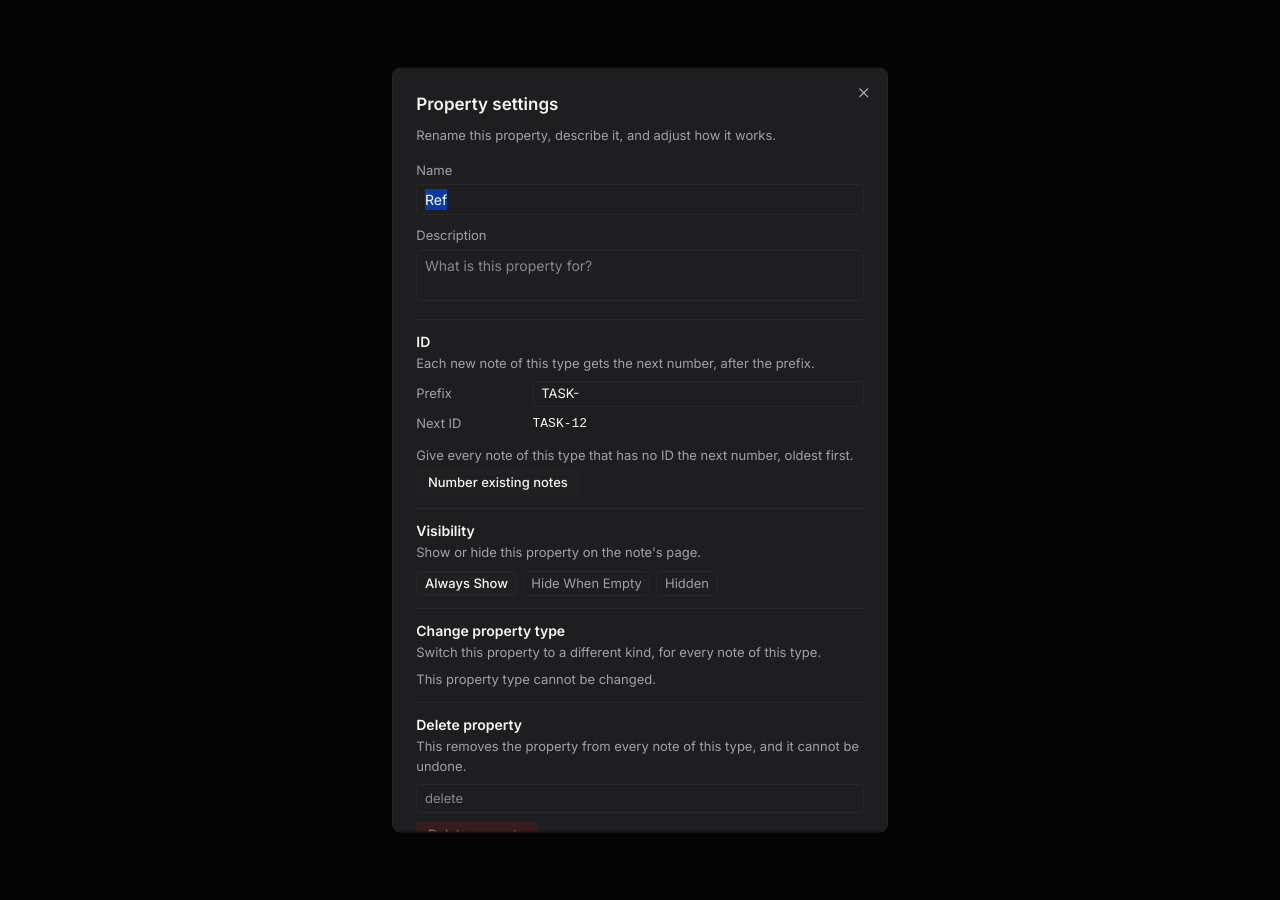
Scenario: UniqueIdSection › "Number existing notes" numbers them and reports how many
The width and height of the screenshot is (1280, 900).
Step 1. Click the button "Number existing notes" → {"x": 498, "y": 482}, box [416,468,579,496]
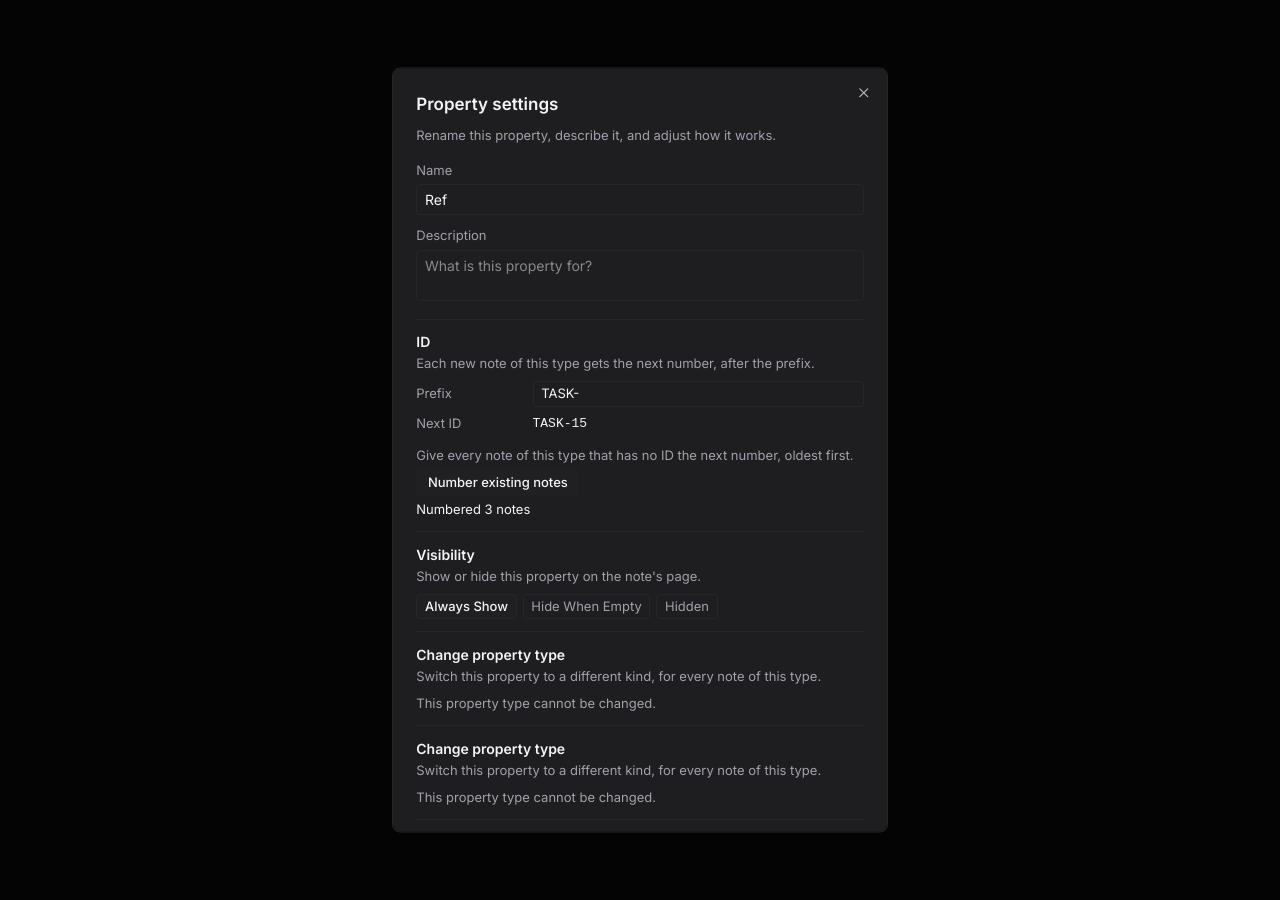
Now the text "Numbered 3 notes" is shown, box [416,501,530,517]
